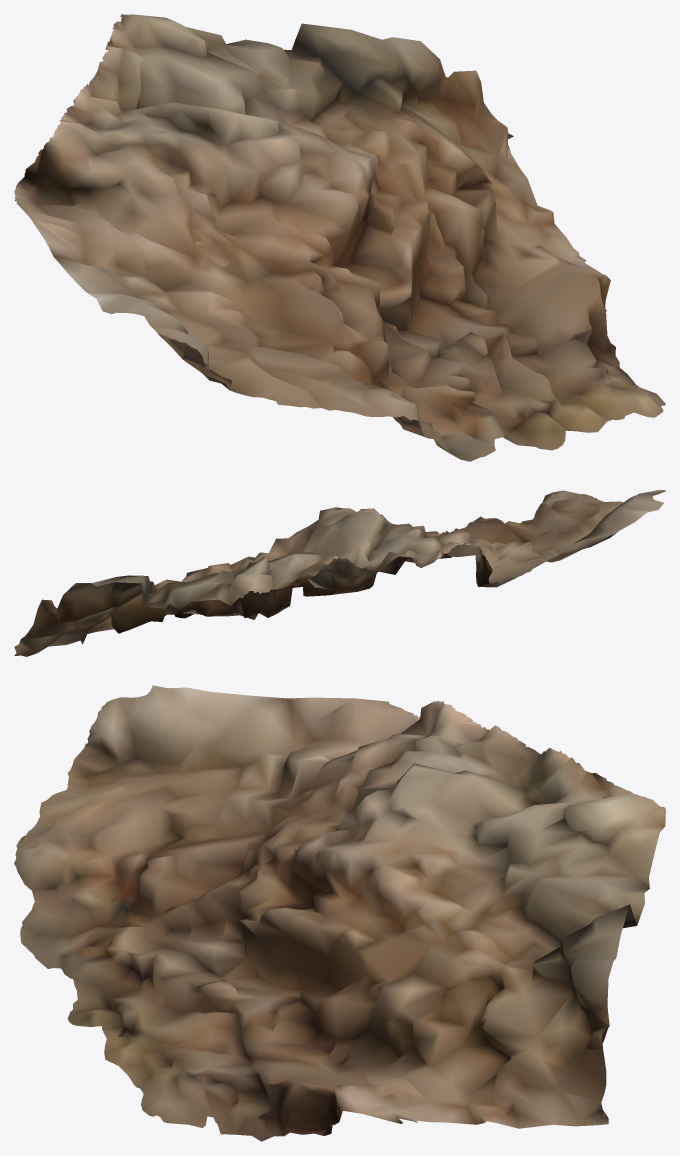
Rendered from Fotofels_6.2fbx.fbx.
3 views of the same model, one above another, from view 1: azimuth 30°, elevation 25°; view 2: azimuth 150°, elevation 25°; view 3: azimuth 270°, elevation 25° (orthographic). The views are drawn at different scales.
Visible parts, largest first — view 1: lp; view 2: lp; view 3: lp.
Boxes of the visible parts, bbox=[...] form: lp: bbox=[14, 14, 665, 461]; lp: bbox=[14, 490, 665, 656]; lp: bbox=[14, 685, 665, 1141].
Size of the model in its own units: 1057 by 438 by 1041.
